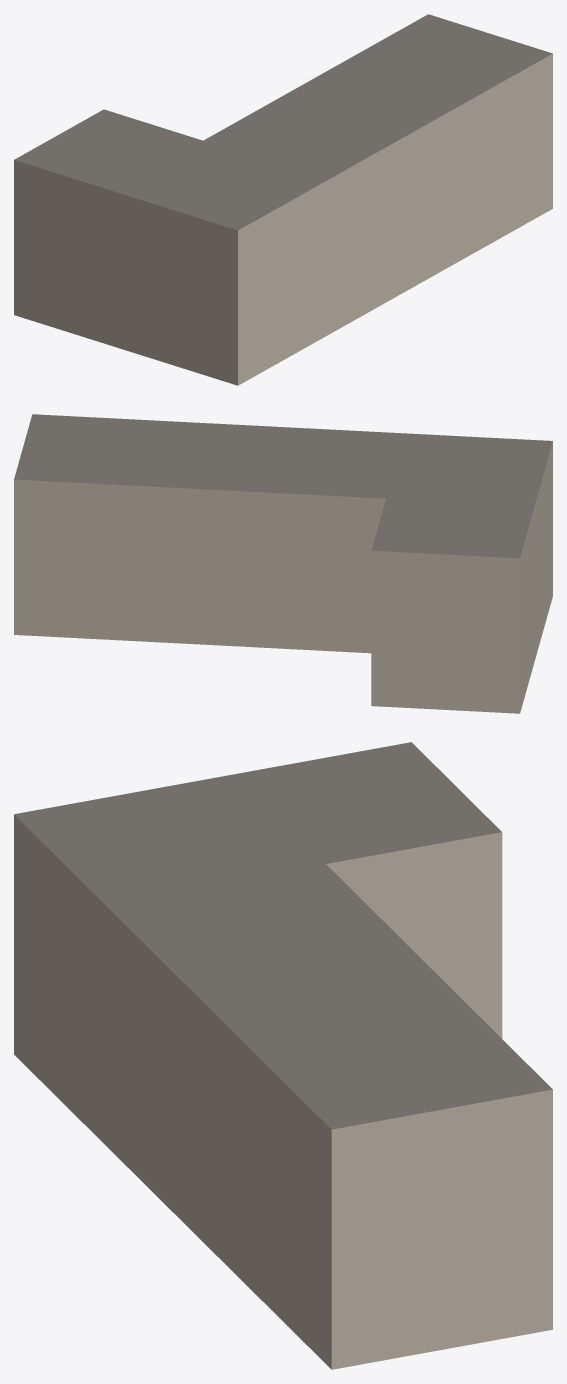
The picture shows the model from 3 angles, top to bottom: view 1: azimuth 30°, elevation 25°; view 2: azimuth 150°, elevation 25°; view 3: azimuth 270°, elevation 25°; orthographic projection. The views are drawn at different scales.
Visible parts, largest first — view 1: HP-w987283671; view 2: HP-w987283671; view 3: HP-w987283671.
Boxes of the visible parts, <box> form: HP-w987283671: <box>14,14,552,385</box>; HP-w987283671: <box>14,414,552,713</box>; HP-w987283671: <box>14,742,552,1369</box>.
Bounding box in the file's own units: 62.27 × 18 × 36.6.
